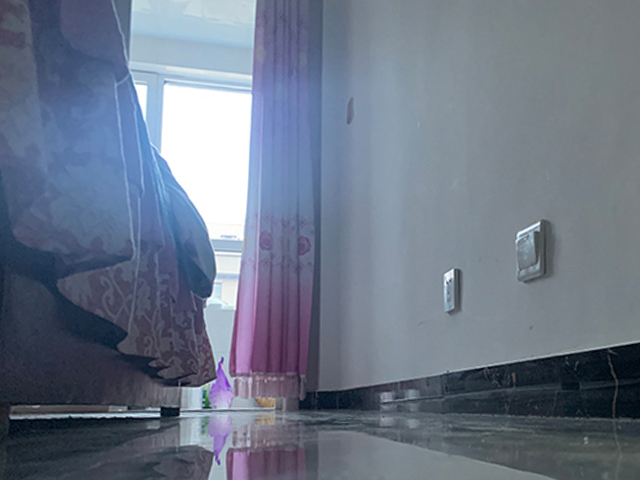bed: (1, 1, 216, 435)
curtain: (229, 1, 310, 403)
